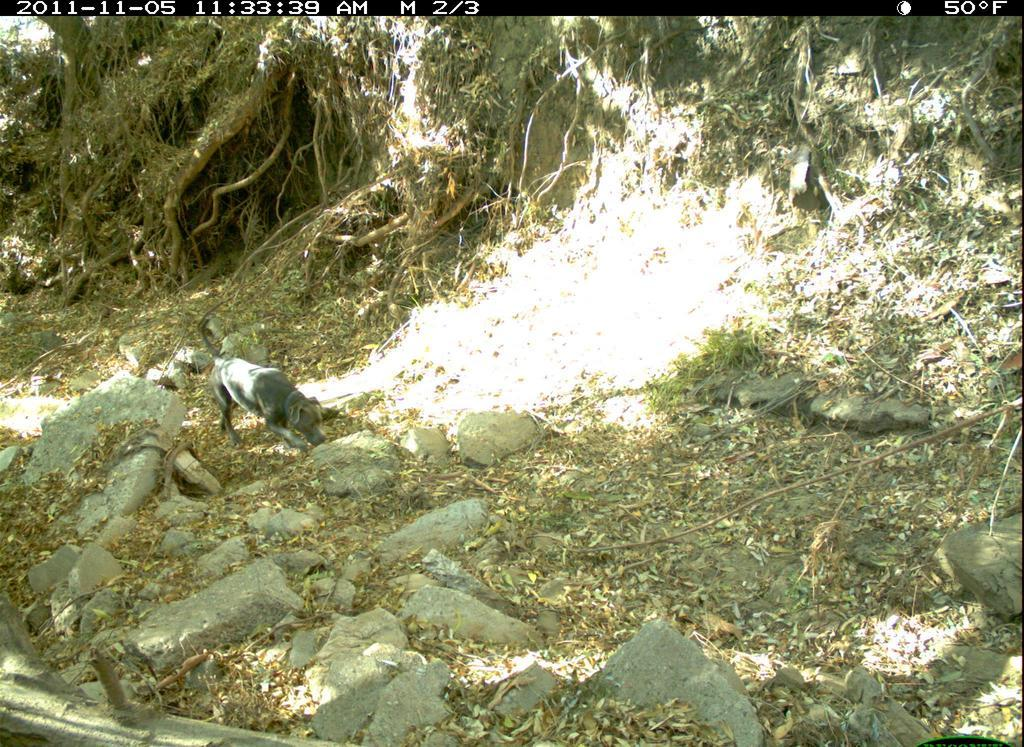dog: (198, 317, 329, 455)
